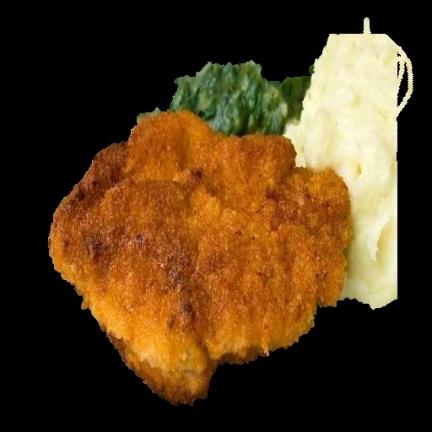chicken: (49, 111, 351, 403)
potato: (285, 19, 411, 308)
